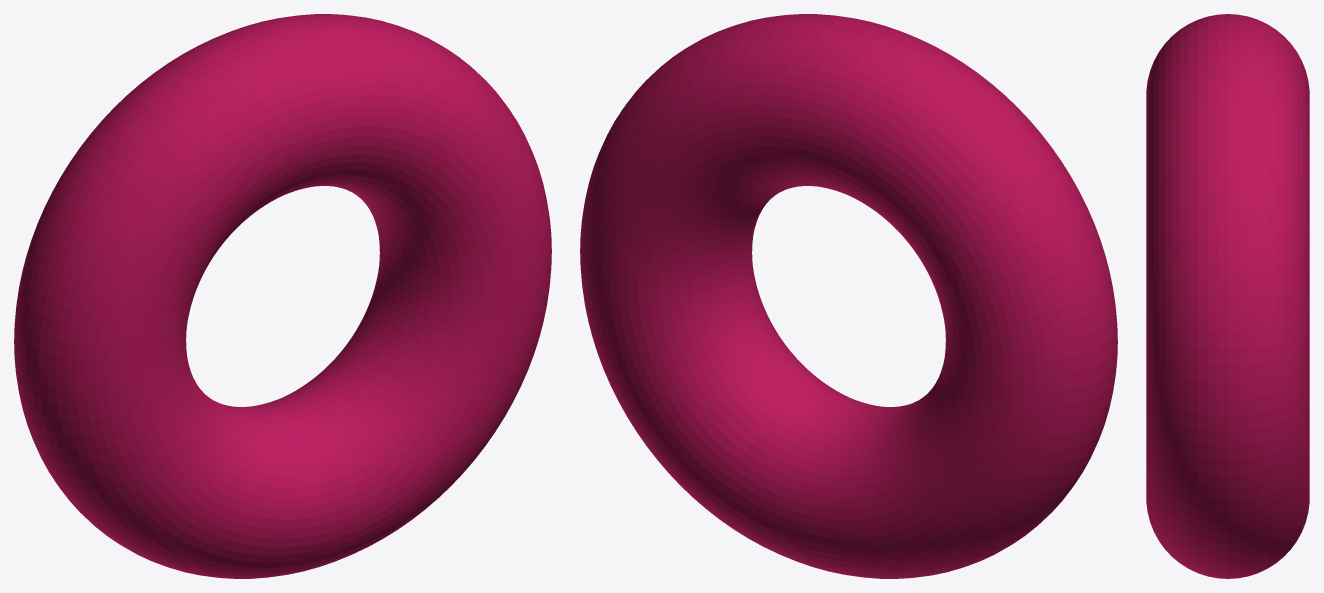
3 views of the same model, side by side, from view 1: azimuth 30°, elevation 25°; view 2: azimuth 150°, elevation 25°; view 3: azimuth 270°, elevation 25° (orthographic). The views are drawn at different scales.
Visible parts, largest first — view 1: world; view 2: world; view 3: world.
Boxes of the visible parts, x1,y1,x2,y2 form: world: (14, 14, 551, 578); world: (580, 14, 1117, 578); world: (1146, 14, 1309, 578).
Bounding box in the file's own units: 25.33 × 25.33 × 7.32.
